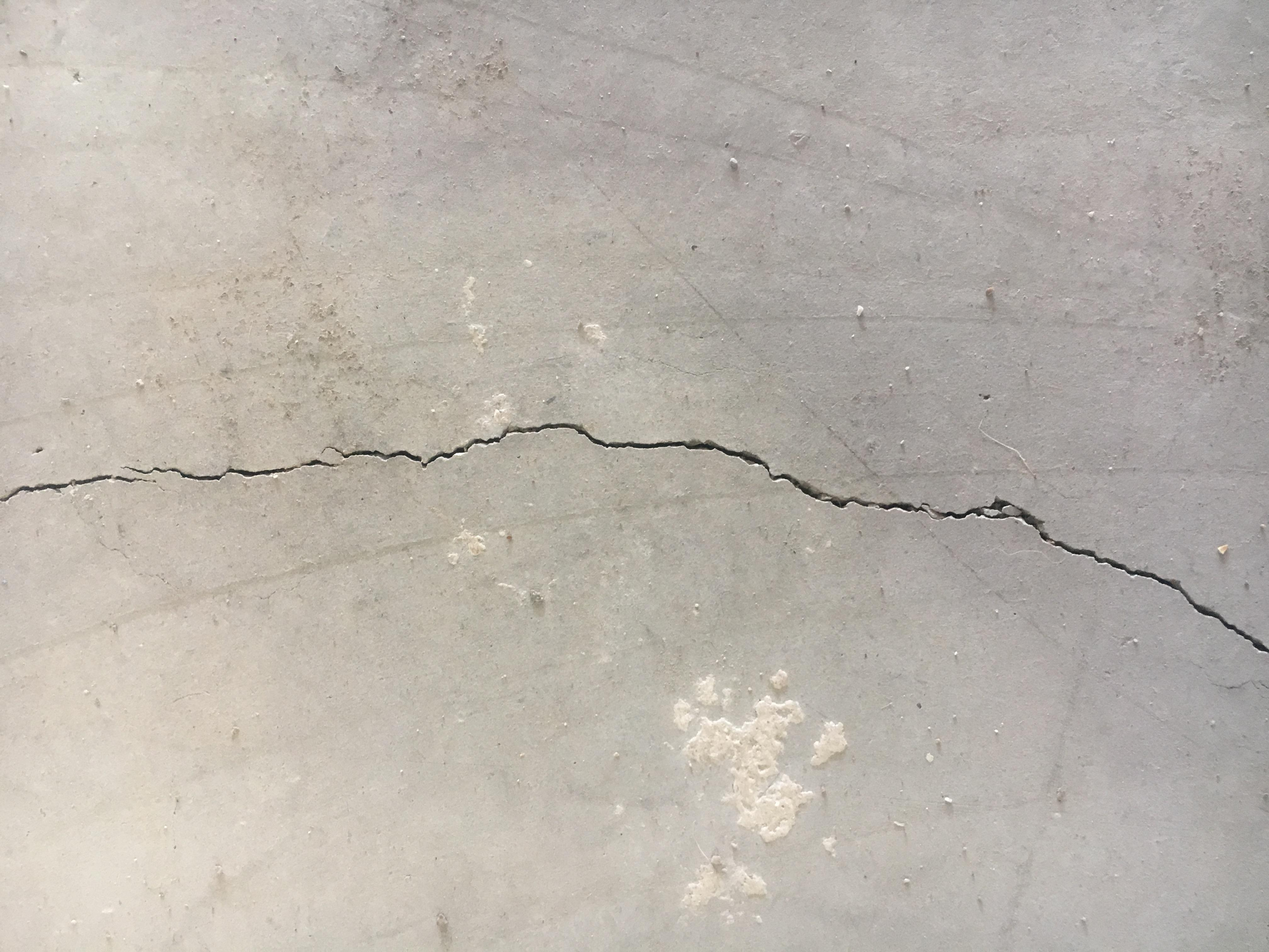Horizontal Settlement Crack: (3, 416, 1265, 661)
